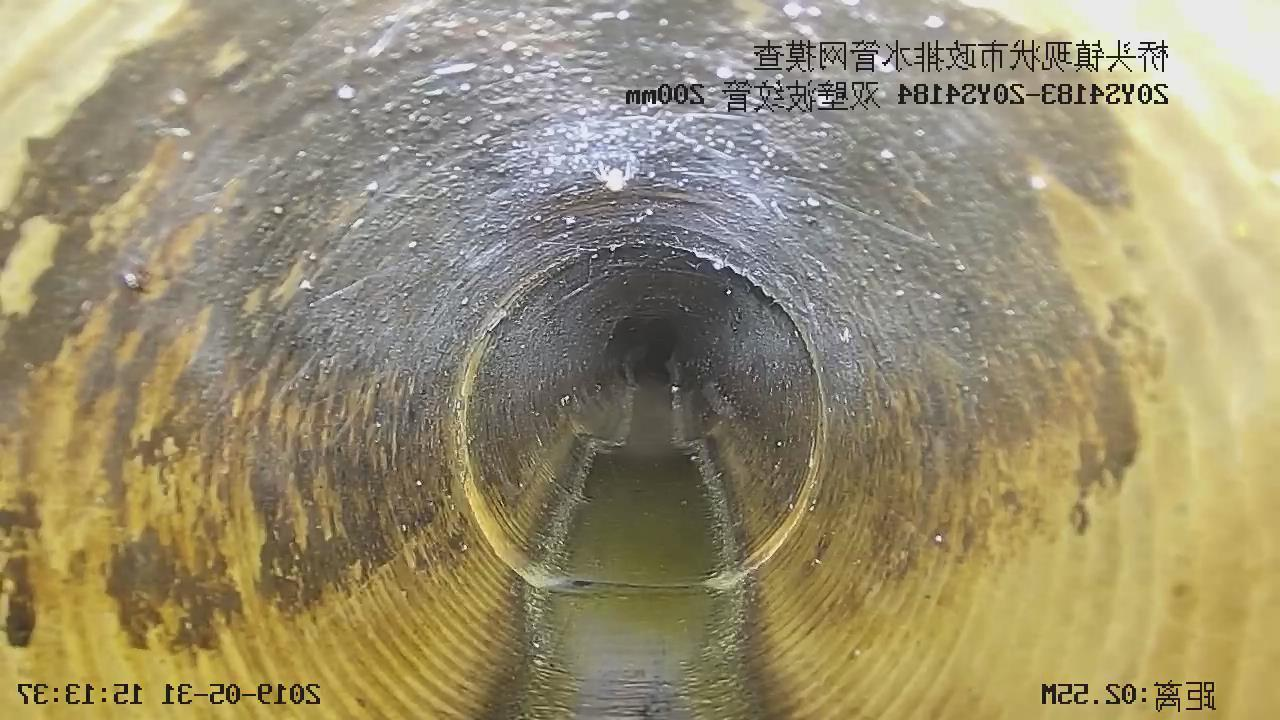CKTJ: (448, 239, 830, 592)
